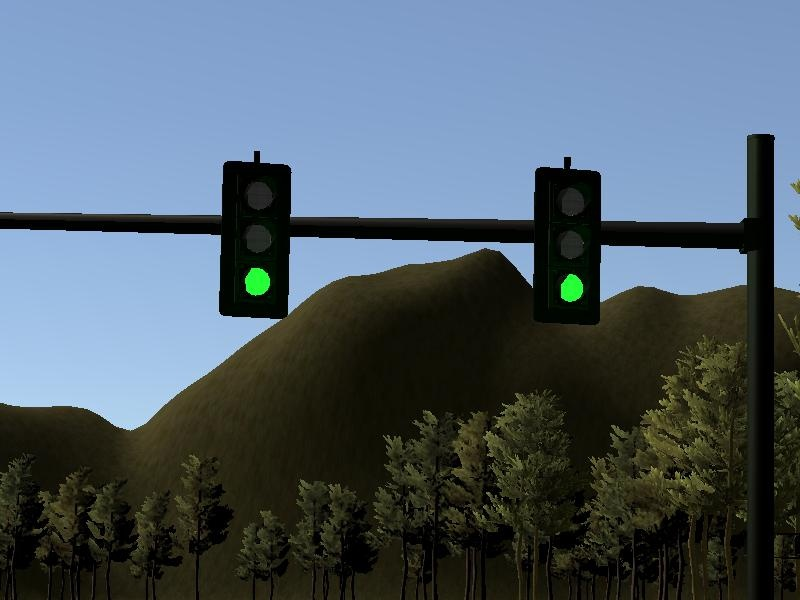GREEN: (221, 161, 293, 320), (535, 167, 603, 324)
